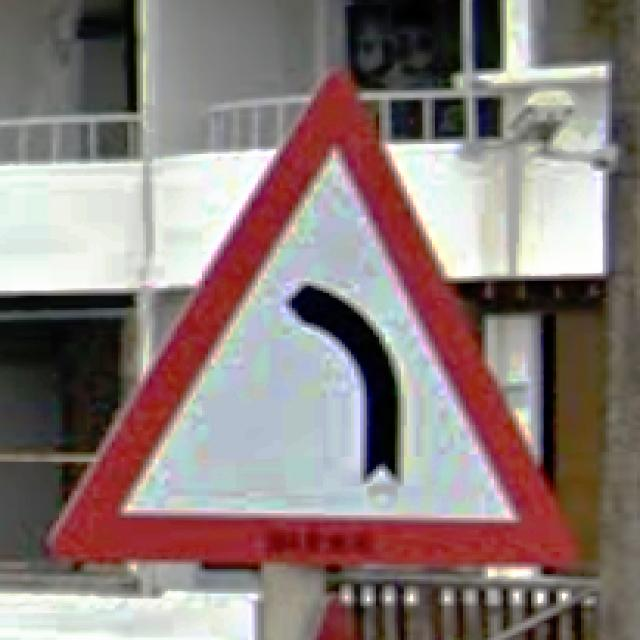leftbend: (43, 68, 584, 576)
